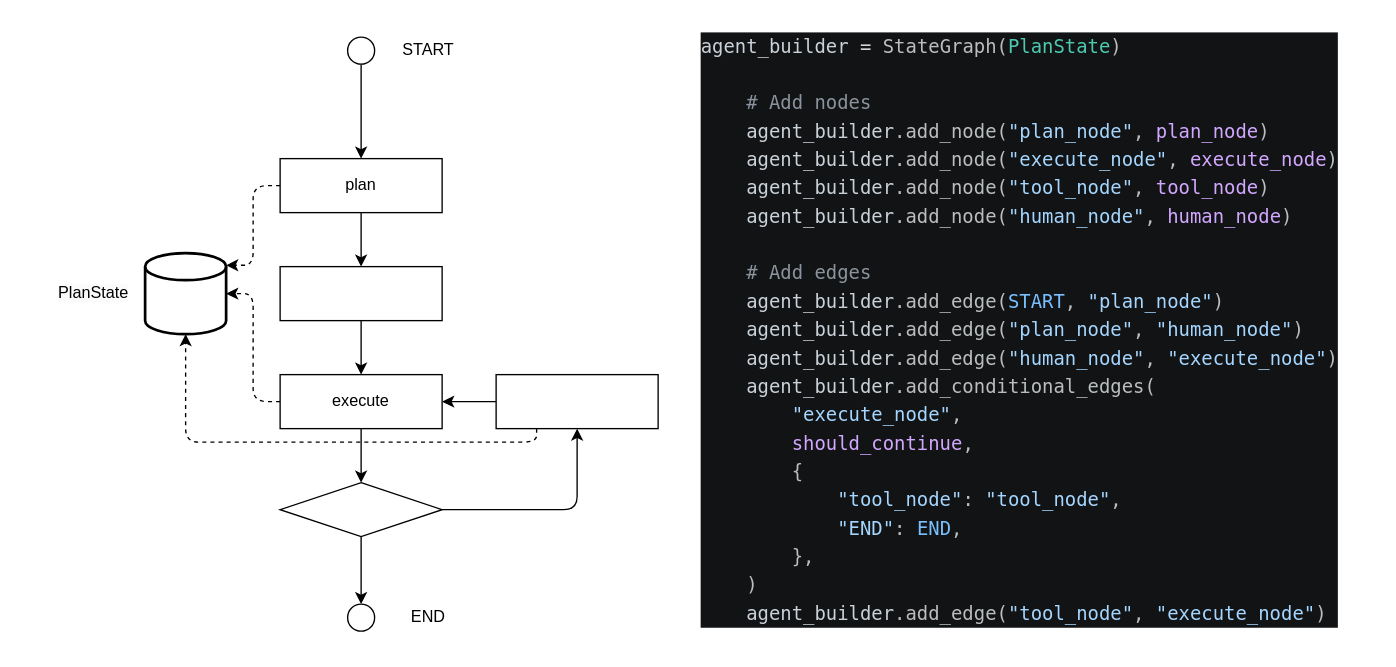
This 1396x667 diagram has some shape labels left out. The shapes that lost their labels are listed below. From the top down, each one's centre as x and y in pixels, then its label:
At (x=360, y=293): "human".
At (x=576, y=401): "tool".
